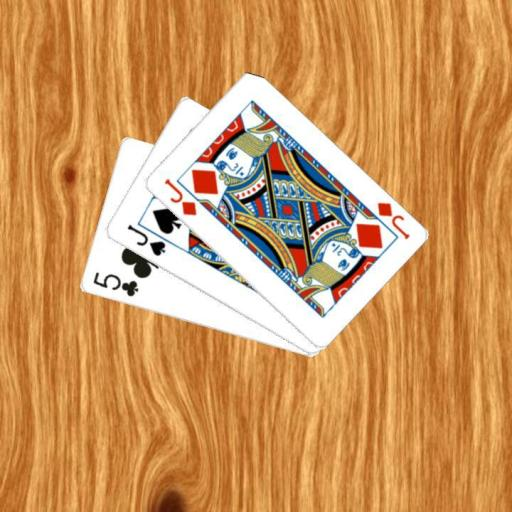5C: (89, 269, 139, 299)
JD: (160, 175, 198, 218), (373, 198, 411, 241)
JS: (124, 221, 167, 258)
